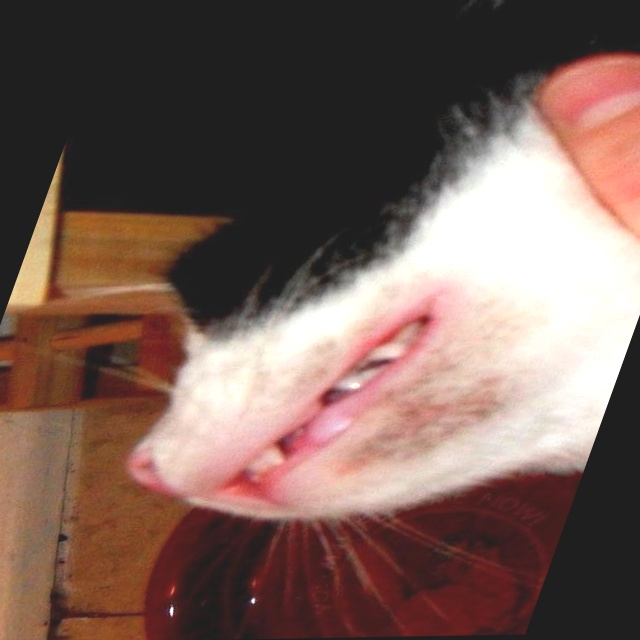acne: (327, 351, 525, 479)
